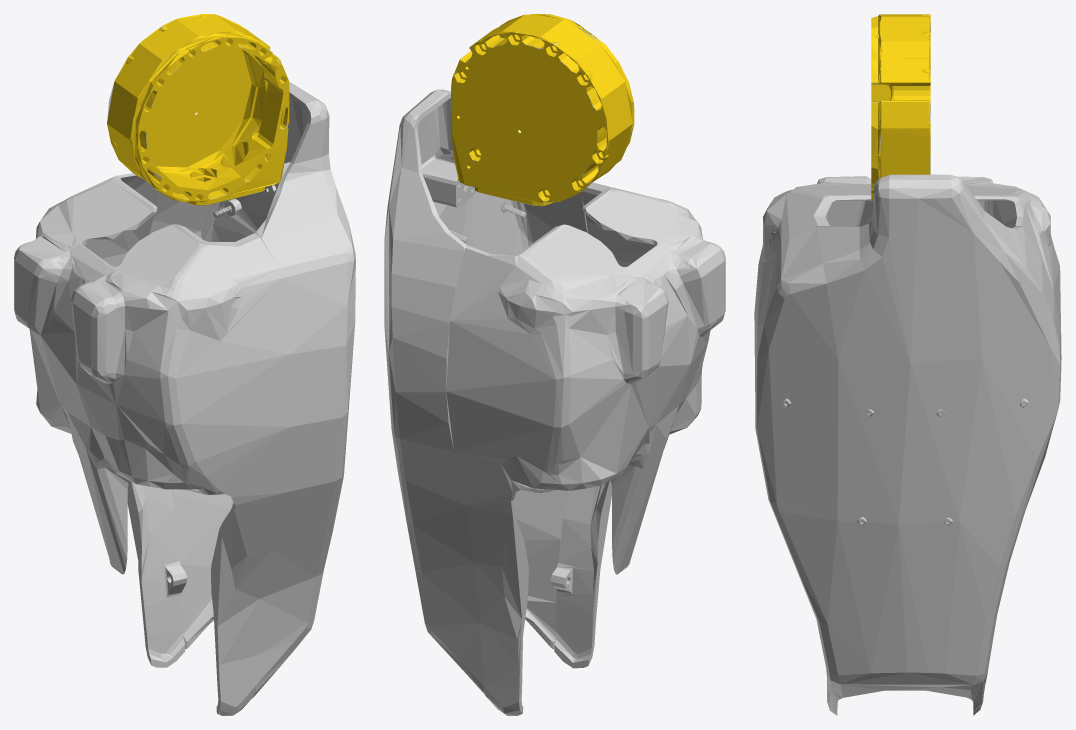
Rendered from lj4_right.dae.
3 renders of one model, left to right at view 1: azimuth 30°, elevation 25°; view 2: azimuth 150°, elevation 25°; view 3: azimuth 270°, elevation 25°, orthographic. The views are drawn at different scales.
Parts seen in each view (by area): view 1: Shin_Right__2_; view 2: Shin_Right__2_; view 3: Shin_Right__2_.
Part boxes in pixels (x1,y1,x2,y2): Shin_Right__2_: [14, 14, 355, 715]; Shin_Right__2_: [384, 14, 725, 715]; Shin_Right__2_: [754, 14, 1061, 715].
Size of the model in its own units: 0.1866 by 0.1791 by 0.4455.
